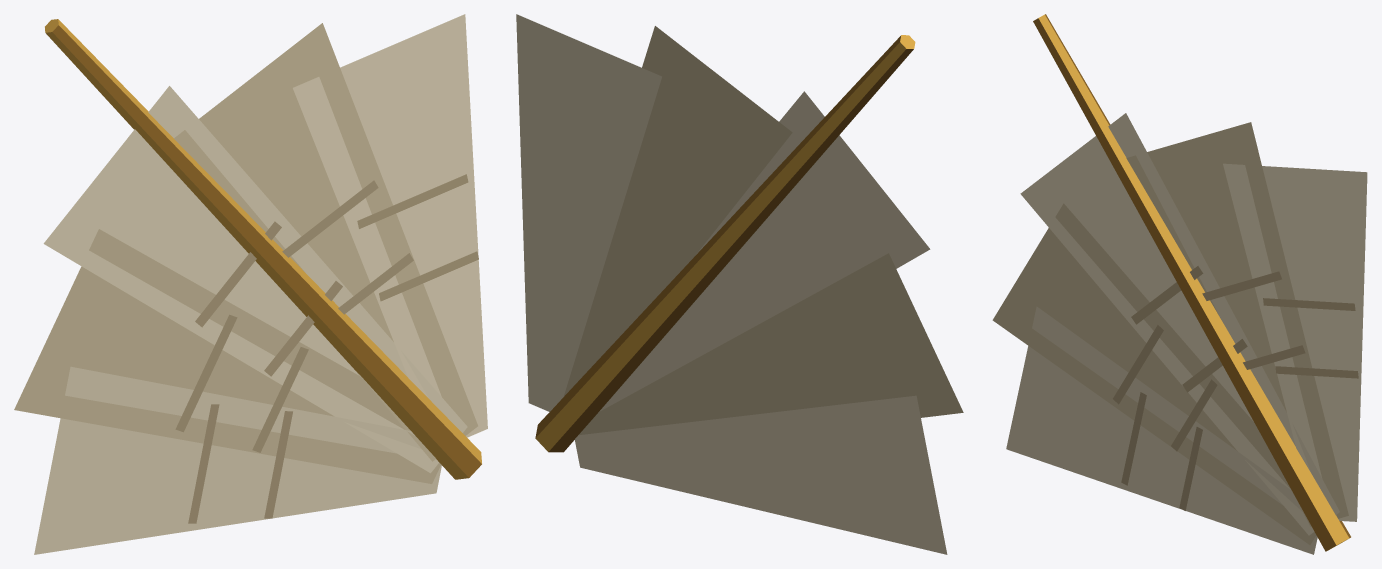
File: wing_l.glb
3 renders of one model, left to right at view 1: azimuth 30°, elevation 25°; view 2: azimuth 150°, elevation 25°; view 3: azimuth 330°, elevation 25°, orthographic. The views are drawn at different scales.
Parts seen in each view (by area): view 1: wing_l2; view 2: wing_l2; view 3: wing_l2.
Part boxes in pixels (bbox=[...]): wing_l2: bbox=[14, 14, 487, 554]; wing_l2: bbox=[516, 14, 963, 554]; wing_l2: bbox=[992, 14, 1367, 554].
Size of the model in its own units: 0.8815 by 0.9985 by 0.1414.
